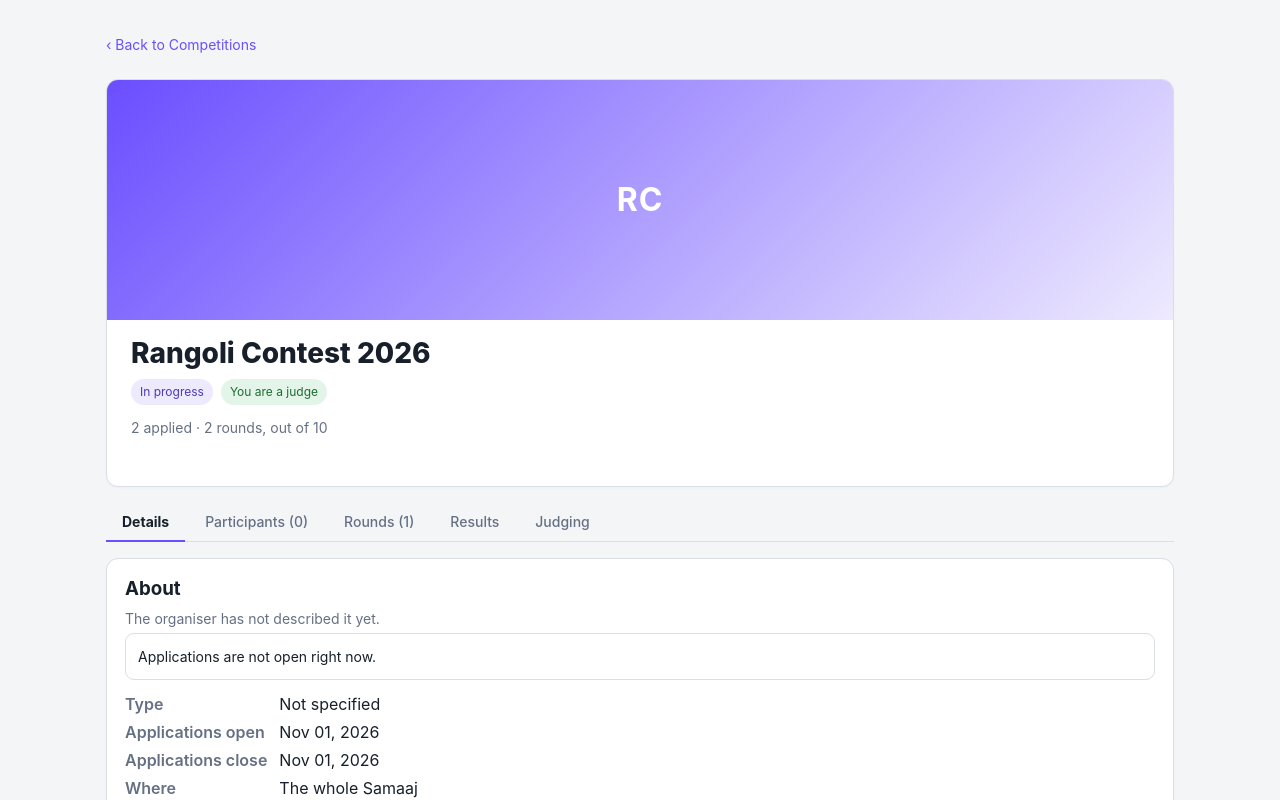
Scenario: CompetitionDetailComponent › lists each participant on the judge's own sheet, with a mark out of the max
Click the tab "Judging" at coordinates (562, 522), box top-left (519, 503), bottom-right (606, 542)
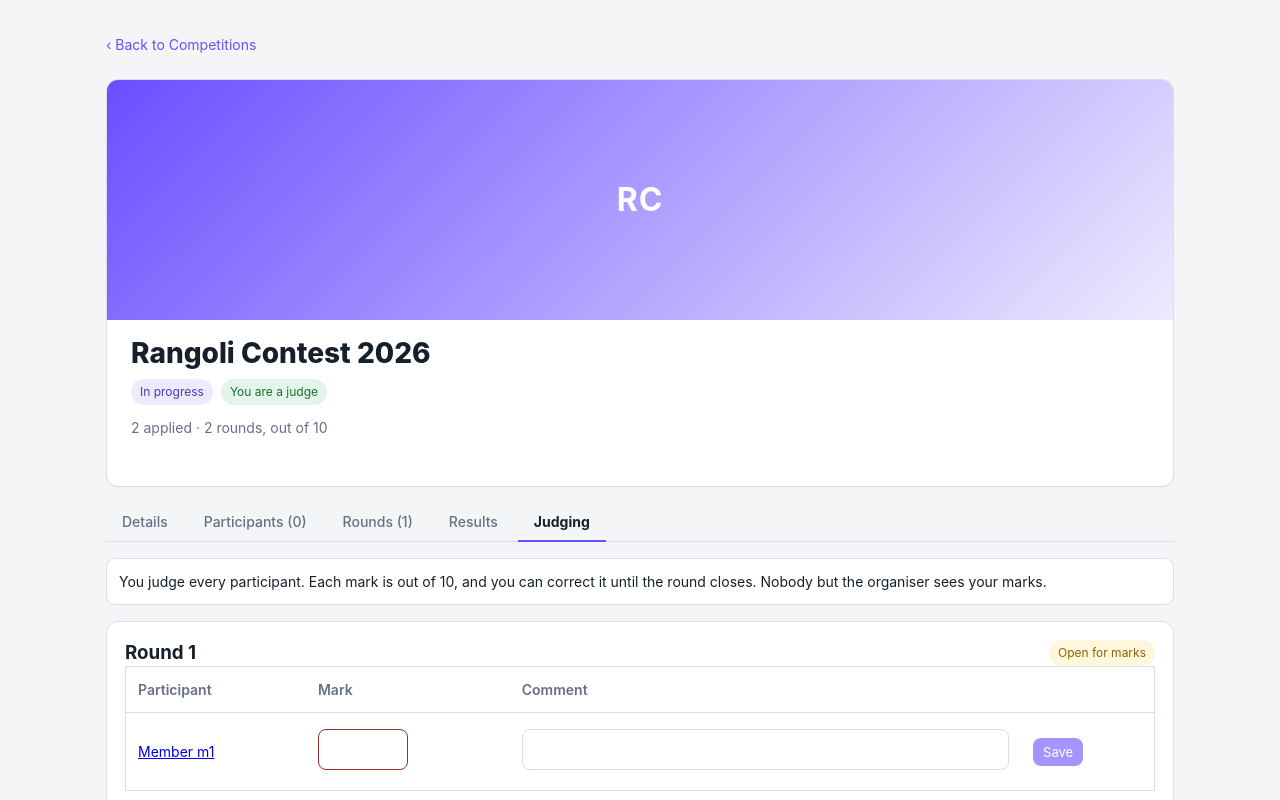
Check: the text "Each mark is out of 10" is shown, box top-left (119, 573), bottom-right (1047, 590)
Check: the text "Member m1" is shown, box top-left (138, 743), bottom-right (214, 760)
Check: the number field with id "mark-e1" is shown, box top-left (318, 729), bottom-right (408, 770)
